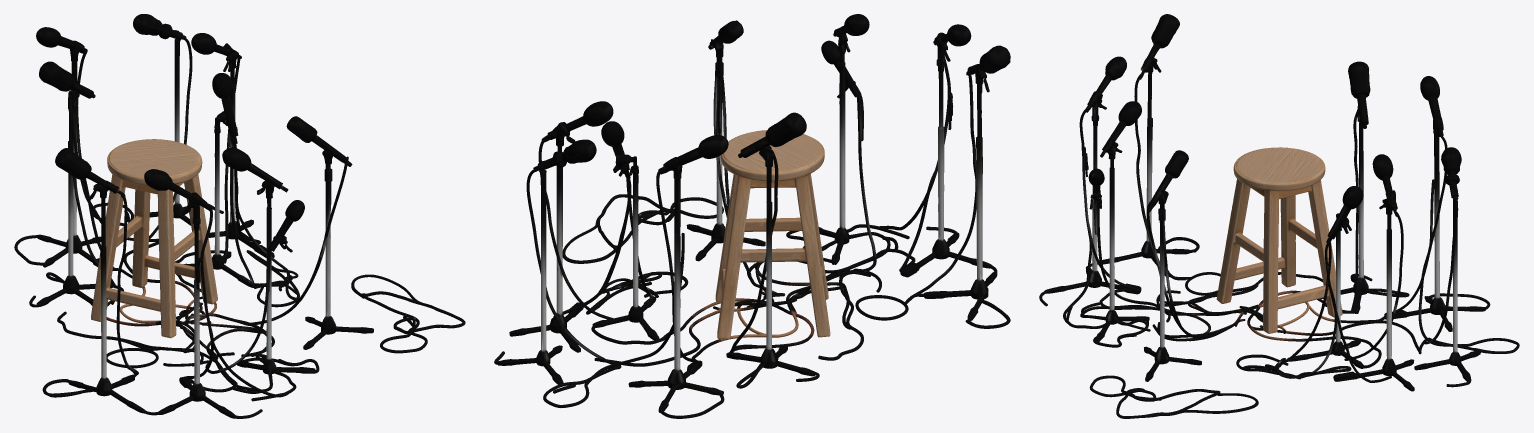
Rendered from mic_circle.glb.
The picture shows the model from 3 angles, left to right: view 1: azimuth 30°, elevation 25°; view 2: azimuth 150°, elevation 25°; view 3: azimuth 270°, elevation 25°; orthographic projection. The views are drawn at different scales.
Visible parts, largest first — view 1: tripo_node_0614b13a-c5c3-466d-9c4a-afa2eefdf3f0; view 2: tripo_node_0614b13a-c5c3-466d-9c4a-afa2eefdf3f0; view 3: tripo_node_0614b13a-c5c3-466d-9c4a-afa2eefdf3f0.
Boxes of the visible parts, bbox=[...] form: tripo_node_0614b13a-c5c3-466d-9c4a-afa2eefdf3f0: bbox=[14, 14, 465, 418]; tripo_node_0614b13a-c5c3-466d-9c4a-afa2eefdf3f0: bbox=[494, 14, 1010, 418]; tripo_node_0614b13a-c5c3-466d-9c4a-afa2eefdf3f0: bbox=[1039, 14, 1519, 418].
Bounding box in the file's own units: 1.23 × 0.75 × 1.4.
1 material, 1 textured.
